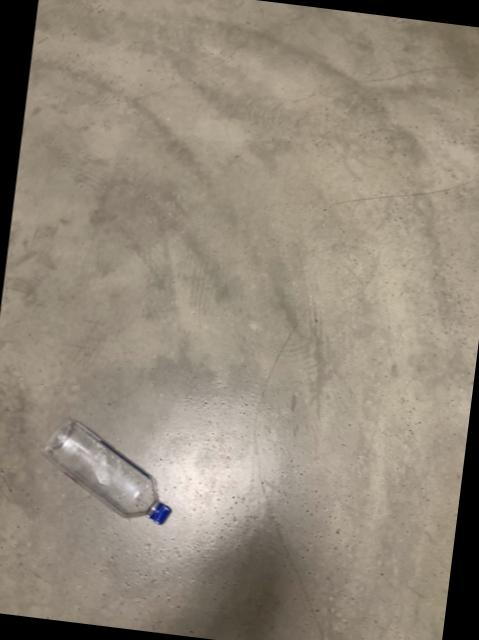plastic: (40, 422, 169, 525)
